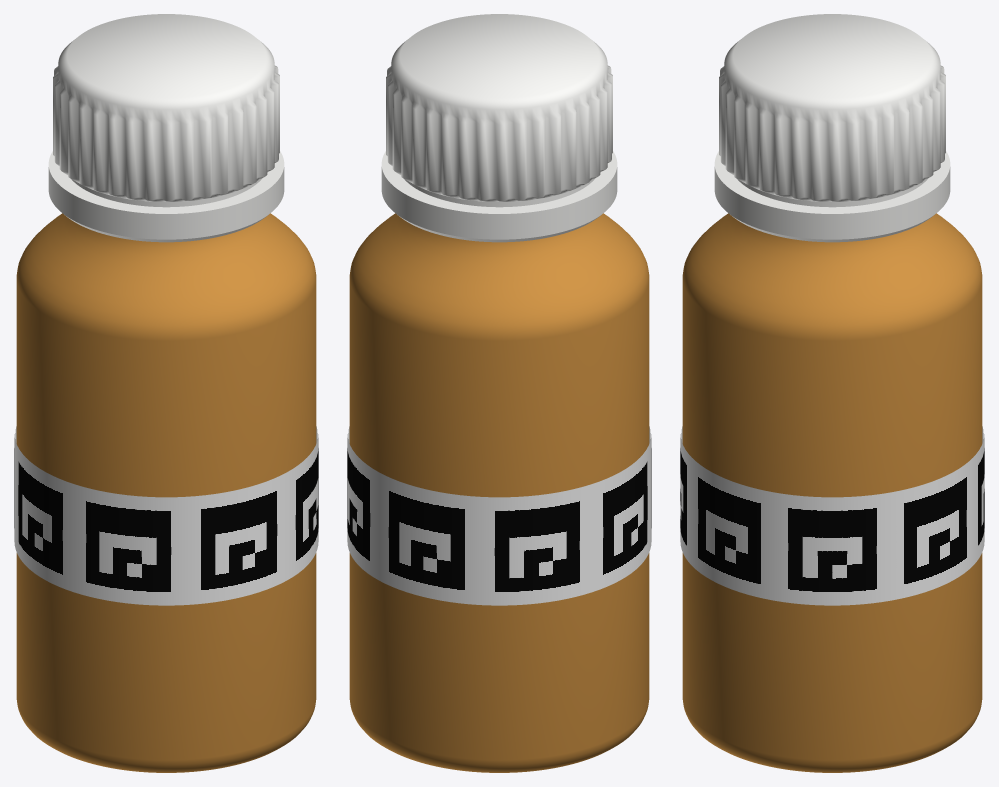
File: SMP-0002_2008373235843.glb
3 renders of one model, left to right at view 1: azimuth 30°, elevation 25°; view 2: azimuth 150°, elevation 25°; view 3: azimuth 270°, elevation 25°, orthographic.
Parts seen in each view (by area): view 1: Bottle_020ml, Cap_020ml_PP18, Label_SMP-0002; view 2: Bottle_020ml, Cap_020ml_PP18, Label_SMP-0002; view 3: Bottle_020ml, Cap_020ml_PP18, Label_SMP-0002.
Part boxes in pixels (box(x1,y1,x2,y2)): Bottle_020ml: box(16, 213, 316, 772); Cap_020ml_PP18: box(48, 14, 284, 242); Label_SMP-0002: box(14, 426, 318, 605); Bottle_020ml: box(349, 213, 649, 772); Cap_020ml_PP18: box(381, 14, 617, 242); Label_SMP-0002: box(347, 426, 651, 605); Bottle_020ml: box(682, 213, 982, 772); Cap_020ml_PP18: box(714, 14, 950, 242); Label_SMP-0002: box(680, 426, 984, 605).
Bounding box in the file's own units: 0.0281 × 0.0675 × 0.0281.
Materials: 4 (1 with a texture image).
